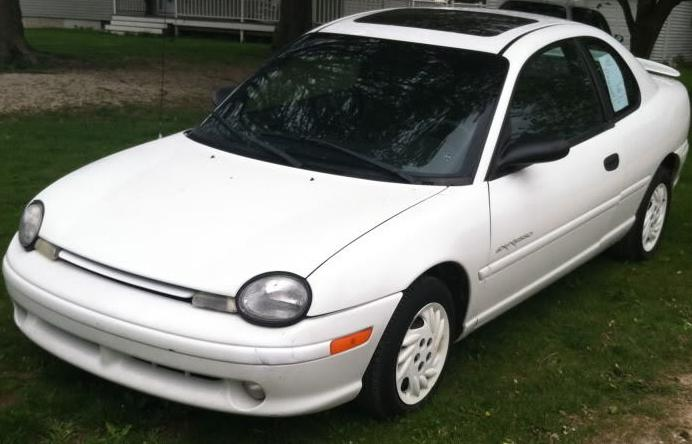front_view: (1, 183, 364, 420)
headlight: (196, 255, 316, 326)
side_glass: (486, 41, 635, 157)
